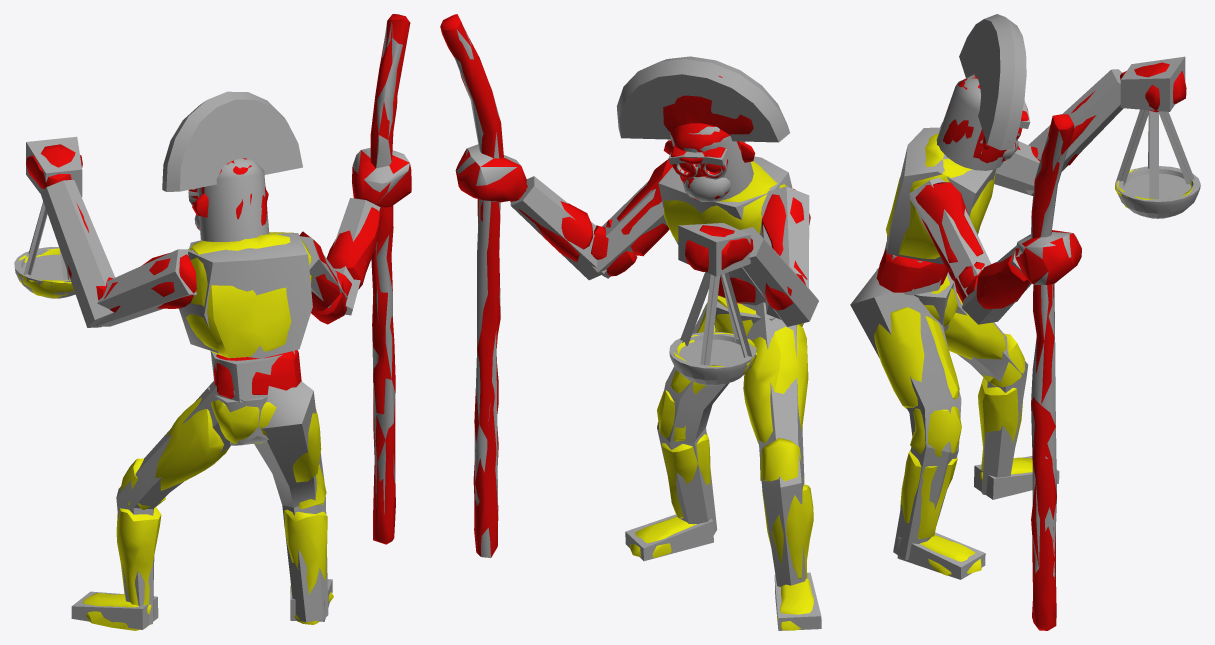
Rendered from sm_Statue.fbx.
3 views of the same model, side by side, from view 1: azimuth 30°, elevation 25°; view 2: azimuth 150°, elevation 25°; view 3: azimuth 270°, elevation 25° (orthographic). The views are drawn at different scales.
Visible parts, largest first — view 1: sm_Statue_Col, sm_Statue_LOD00; view 2: sm_Statue_Col, sm_Statue_LOD00; view 3: sm_Statue_Col, sm_Statue_LOD00.
Boxes of the visible parts, <box> form: sm_Statue_Col: <box>14,21,409,629</box>; sm_Statue_LOD00: <box>18,14,411,630</box>; sm_Statue_Col: <box>454,26,821,630</box>; sm_Statue_LOD00: <box>440,14,813,630</box>; sm_Statue_Col: <box>850,14,1200,579</box>; sm_Statue_LOD00: <box>874,62,1194,630</box>.
Size of the model in its own units: 2806 by 3943 by 2386.
